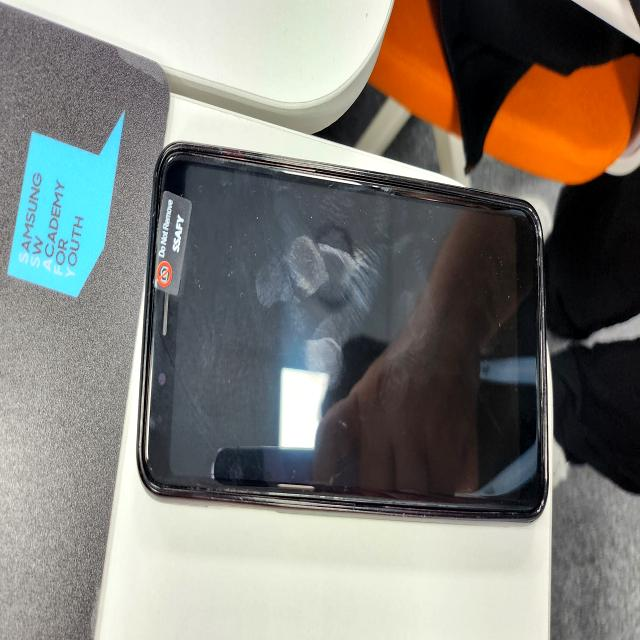phone: (136, 136, 550, 526)
sticker: (150, 185, 193, 297)
